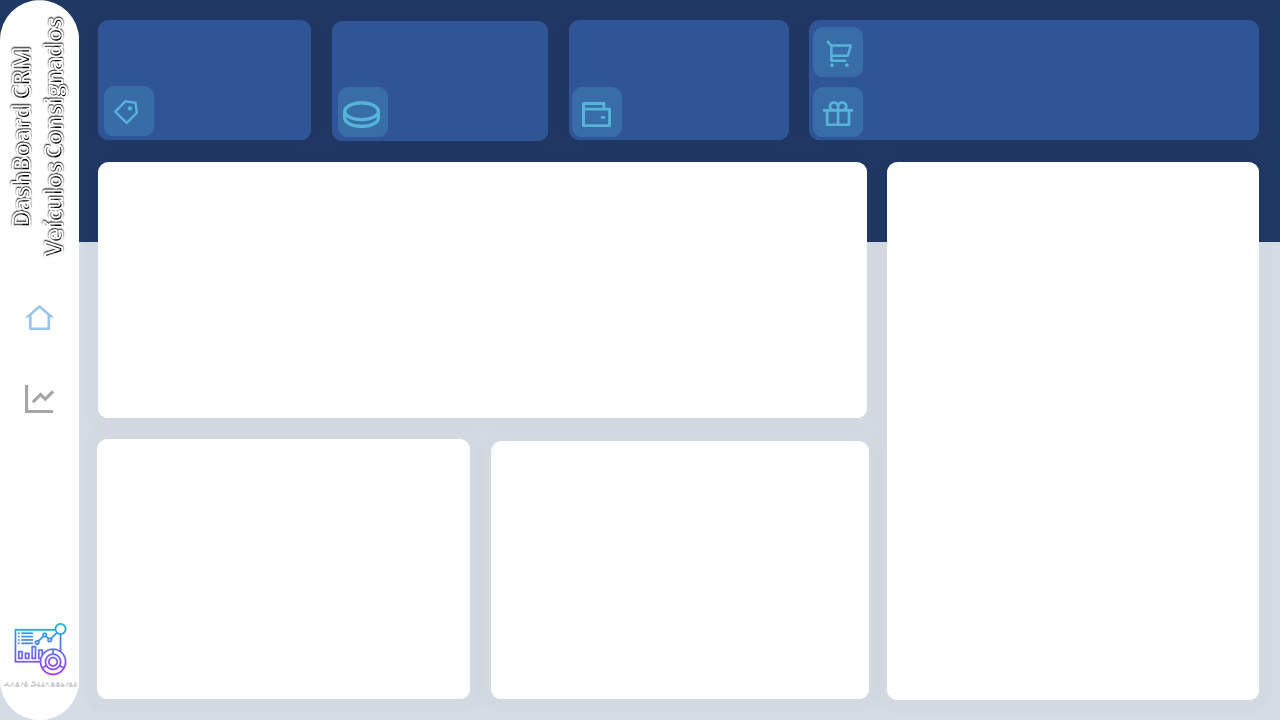

Layout of this report page (visuals, bound fields, positions):
{"tool":"powerbi","page":{"name":"Next","canvas":[1280,720],"ordinal":1},"visuals":[{"type":"card","fields":{"Values":["Medidas.TotLiqProspeccao"]},"box":[102.8,20.3,205.6,61],"z":0},{"type":"card","fields":{"Values":["Medidas.QtdeVeiculosEstoque"]},"box":[335.9,20.3,208,61],"z":1000},{"type":"barChart","title":"Ranking Top N Clientes","fields":{"Category":["Contatos.Nome Contato"],"Y":["PipelineVendas.TopNClientes"]},"box":[889.4,225.9,365.8,467.4],"z":2000},{"type":"gauge","title":"Taxa de Conversão de Veículos Devolvidos","fields":{"Y":["Medidas.TaxaConversaoConsignados"],"TargetValue":["Medidas.Meta Devolucao"]},"box":[496.1,445.9,367,247.4],"z":3000},{"type":"tableEx","title":"Veículos em Negociação por Vendedor","fields":{"Values":["Colaboradores.Nome Colaborador","Produtos.Nome Produto","Produtos.Custo Produto","PipelineVendas.Preco","PipelineVendas.Prioridade"]},"box":[101.6,163.8,761.5,247.4],"z":4000},{"type":"tableEx","title":"Veículos em Estoque","fields":{"Values":["Produtos.Nome Produto","Produtos.QtdeDiasEmEstoque"]},"box":[100,446.3,370.1,247.5],"z":5000},{"type":"card","fields":{"Values":["Medidas.QtdeCarrosNegociacao"]},"box":[576.2,20.3,208,61],"z":6000},{"type":"slicer","fields":{"Values":["Colaboradores.Nome Colaborador"]},"box":[871.4,89.7,377.7,43],"z":7000},{"type":"slicer","fields":{"Values":["Contatos.Nome Contato"]},"box":[871.4,27.5,377.7,43],"z":8000},{"type":"textbox","box":[399.3,94.4,144.6,38.3],"z":9000},{"type":"textbox","box":[156.6,94.4,151.8,38.3],"z":10000},{"type":"textbox","box":[614.4,94.4,169.7,38.3],"z":11000},{"type":"actionButton","box":[12.8,287.8,53.9,53.9],"z":12000},{"type":"slicer","fields":{"Values":["ParTopN.ParTopN"]},"box":[937.2,166.2,318,50.2],"z":13000},{"type":"image","box":[888.2,166.2,47.8,50.2],"z":14000}]}

Visuals, with their boxes in screenshot pixels (x1, y1, x2, y2), scaled from the page's 1280x720 canvas onto the 1280x720 screenshot:
card - Medidas.TotLiqProspeccao: {"left": 103, "top": 20, "right": 308, "bottom": 81}
card - Medidas.QtdeVeiculosEstoque: {"left": 336, "top": 20, "right": 544, "bottom": 81}
"Ranking Top N Clientes" barChart: {"left": 889, "top": 226, "right": 1255, "bottom": 693}
"Taxa de Conversão de Veículos Devolvidos" gauge: {"left": 496, "top": 446, "right": 863, "bottom": 693}
"Veículos em Negociação por Vendedor" tableEx: {"left": 102, "top": 164, "right": 863, "bottom": 411}
"Veículos em Estoque" tableEx: {"left": 100, "top": 446, "right": 470, "bottom": 694}
card - Medidas.QtdeCarrosNegociacao: {"left": 576, "top": 20, "right": 784, "bottom": 81}
slicer - Colaboradores.Nome Colaborador: {"left": 871, "top": 90, "right": 1249, "bottom": 133}
slicer - Contatos.Nome Contato: {"left": 871, "top": 28, "right": 1249, "bottom": 70}
textbox: {"left": 399, "top": 94, "right": 544, "bottom": 133}
textbox: {"left": 157, "top": 94, "right": 308, "bottom": 133}
textbox: {"left": 614, "top": 94, "right": 784, "bottom": 133}
actionButton: {"left": 13, "top": 288, "right": 67, "bottom": 342}
slicer - ParTopN.ParTopN: {"left": 937, "top": 166, "right": 1255, "bottom": 216}
image: {"left": 888, "top": 166, "right": 936, "bottom": 216}
